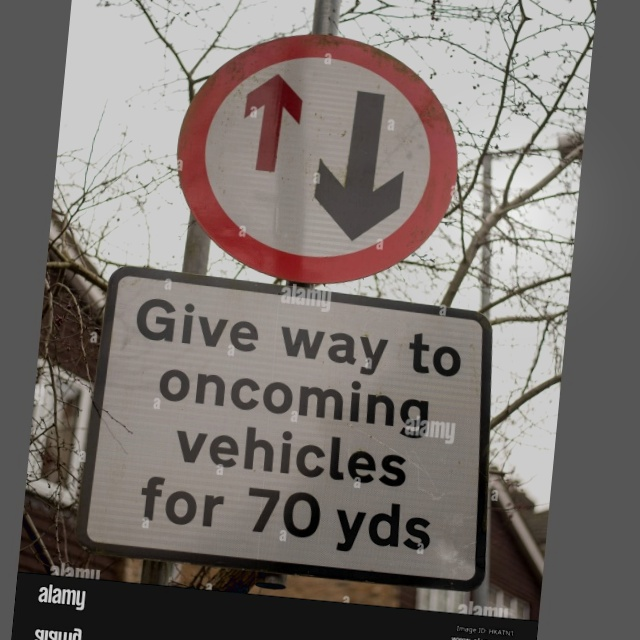Priority_for_Oncoming_Traffic: (168, 21, 470, 293)
